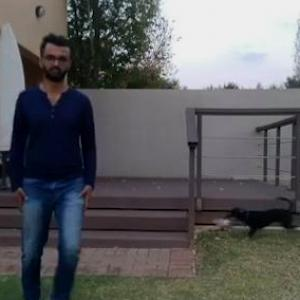follow: (7, 27, 110, 299)
